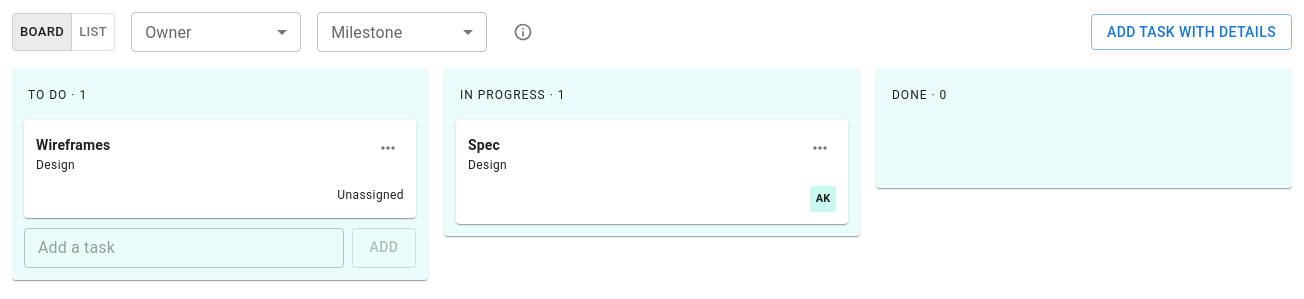
it: TasksTab: a manager › explains how tasks move behind an info icon, not in a paragraph
Expected: the button "Wireframes" is shown, [36,135,110,155]
Expected: the text "Drag a card to move it" is not shown
Hover over the button named "How tasks move" at x=523, y=32, box [503,12,543,52]
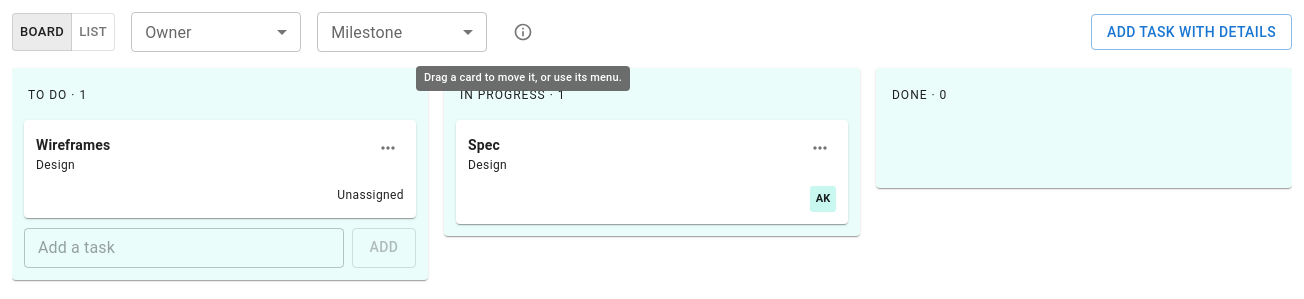
Expected: the tooltip reads "Drag a card to move it, or use its menu.", [424,71,622,84]
